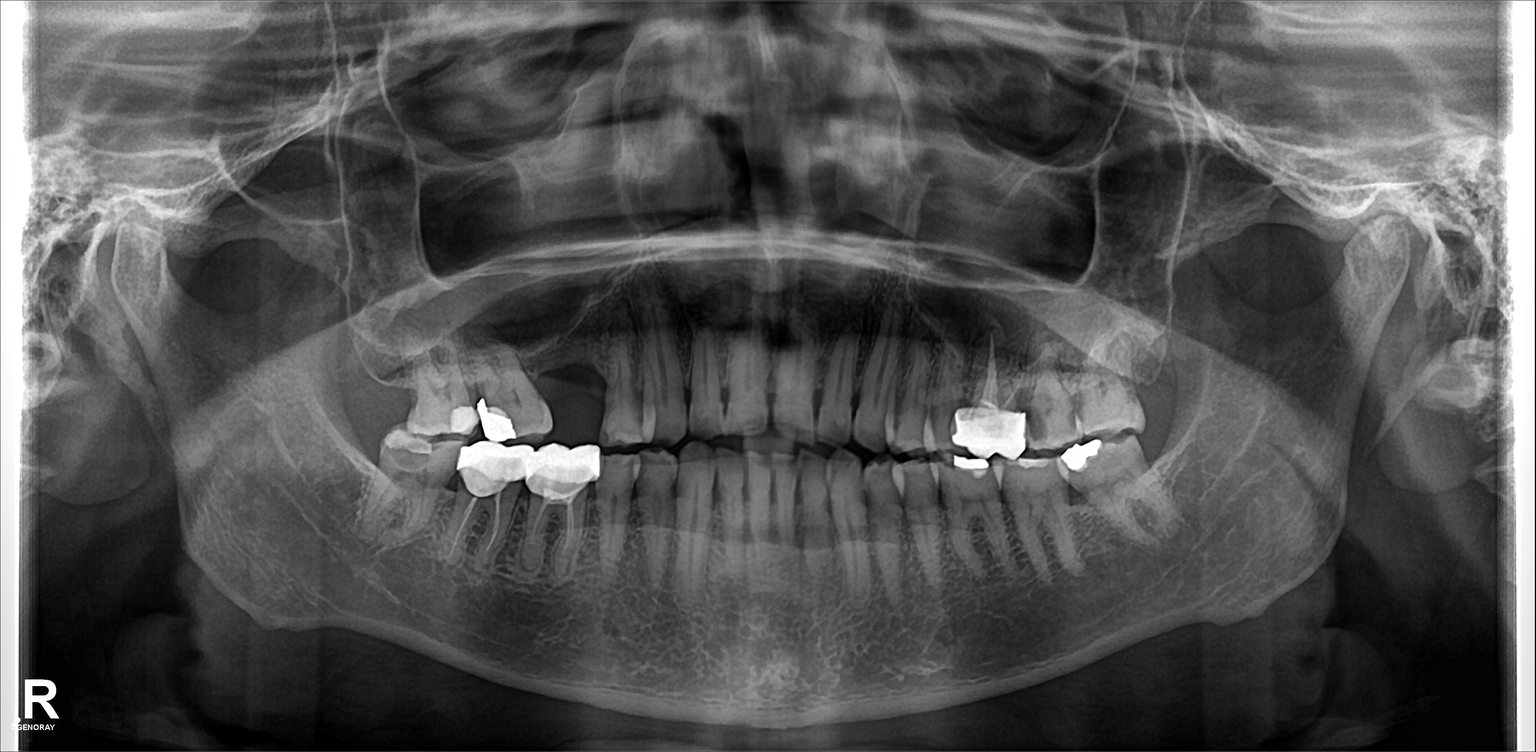Endodontically Treated Tooth: (520, 443, 593, 576), (963, 341, 1022, 459), (467, 443, 517, 562)
Missing Tooth: (538, 335, 602, 432), (1132, 333, 1186, 438), (363, 328, 411, 431), (341, 417, 378, 505)
